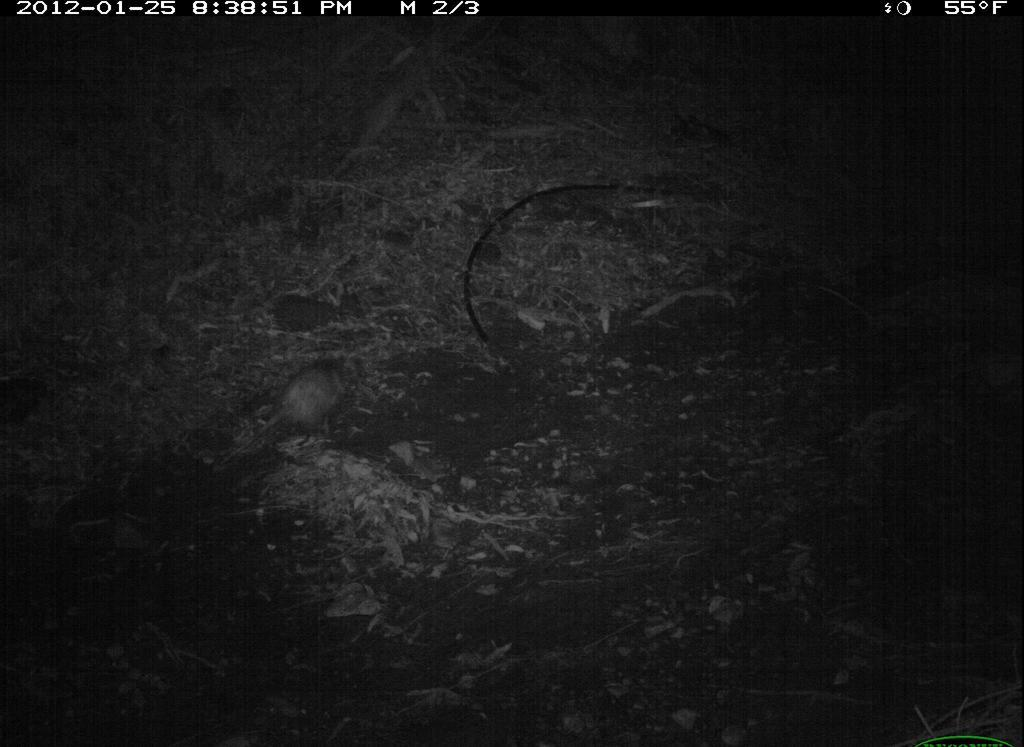opossum: (239, 350, 373, 456)
